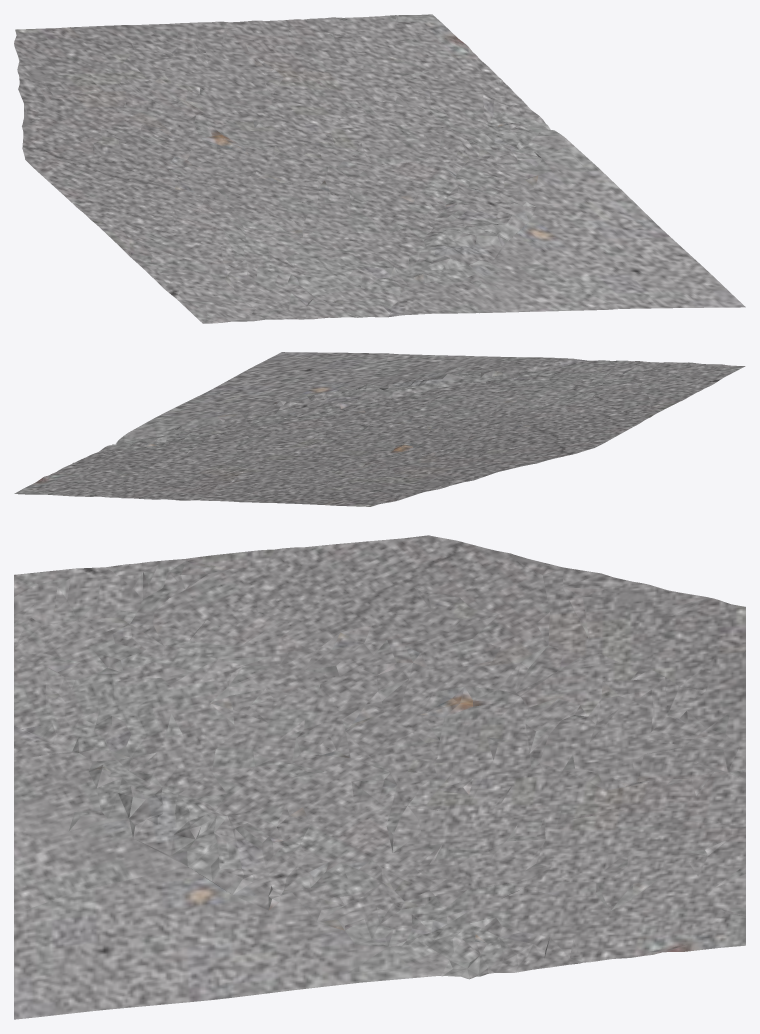
3 renders of one model, top to bottom at view 1: azimuth 30°, elevation 25°; view 2: azimuth 150°, elevation 25°; view 3: azimuth 270°, elevation 25°, orthographic. The views are drawn at different scales.
Size of the model in its own units: 1.67 by 0.4419 by 1.67.
3 materials, 3 textured.
